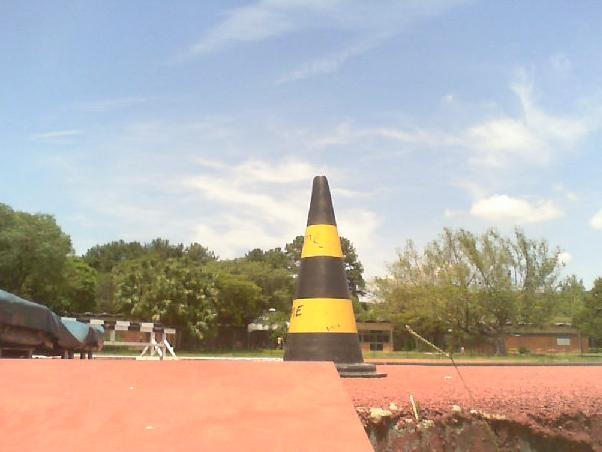0 cone: (284, 175, 386, 379)
